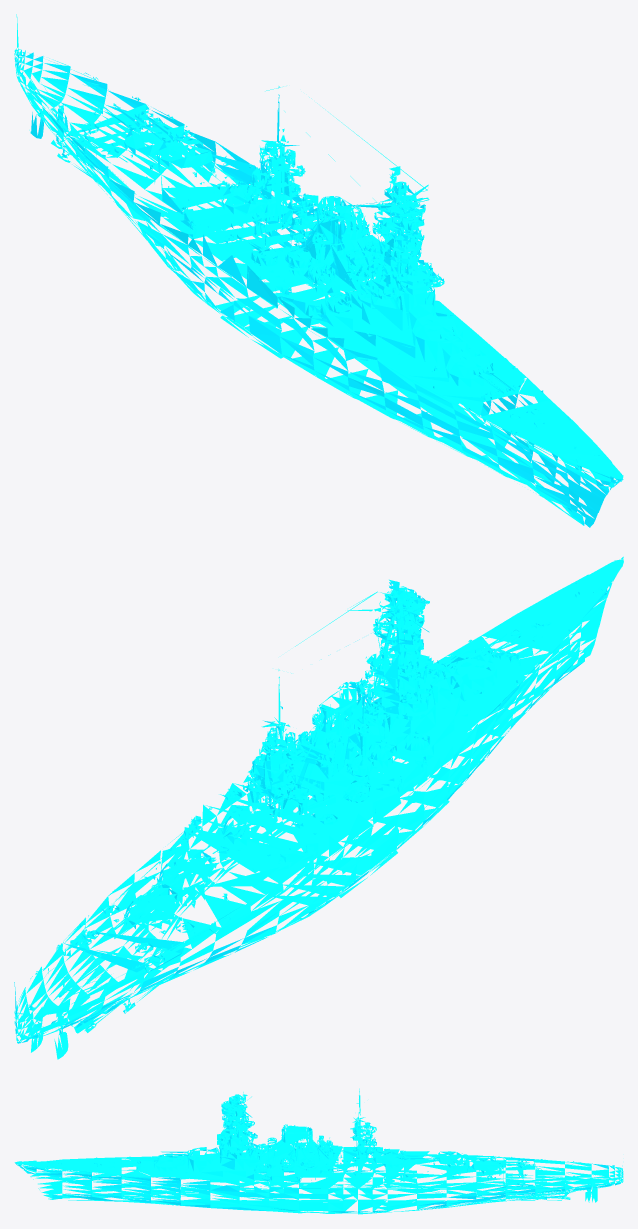
Rendered from Kii.glb.
The picture shows the model from 3 angles, top to bottom: view 1: azimuth 30°, elevation 25°; view 2: azimuth 150°, elevation 25°; view 3: azimuth 270°, elevation 25°; orthographic projection. The views are drawn at different scales.
Bounding box in the file's own units: 2.1 × 3.44 × 17.21.
